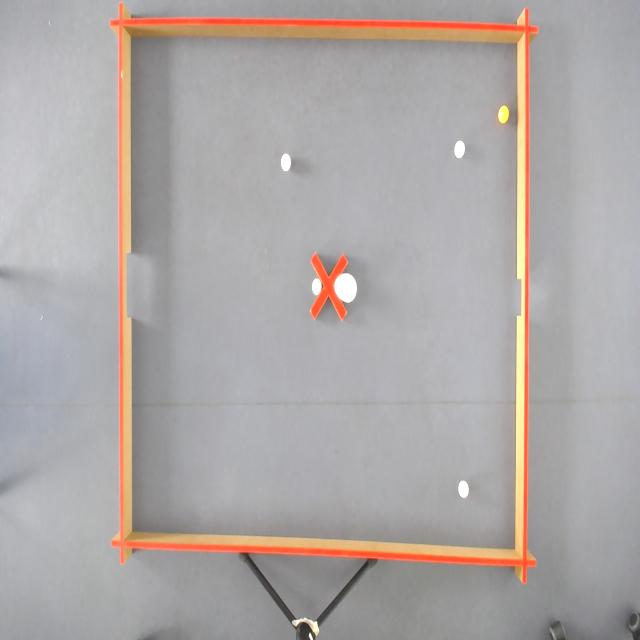cross: (309, 251, 350, 322)
egg: (333, 271, 358, 305)
orange_ball: (498, 104, 510, 124)
white_ball: (453, 137, 467, 160), (457, 478, 470, 501), (280, 152, 292, 174), (311, 276, 323, 297)
